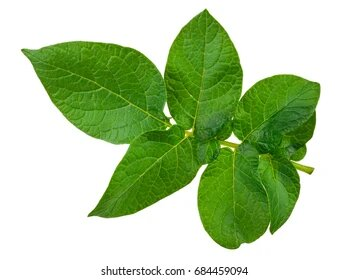potato_leaf: (19, 7, 322, 249)
